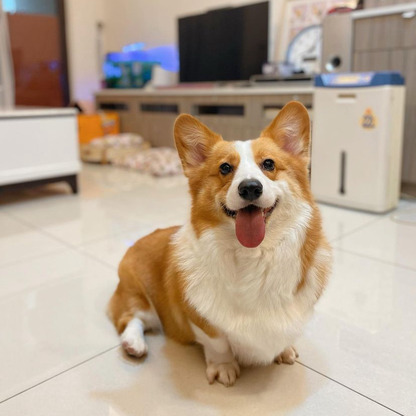Corgi: (101, 95, 343, 386)
